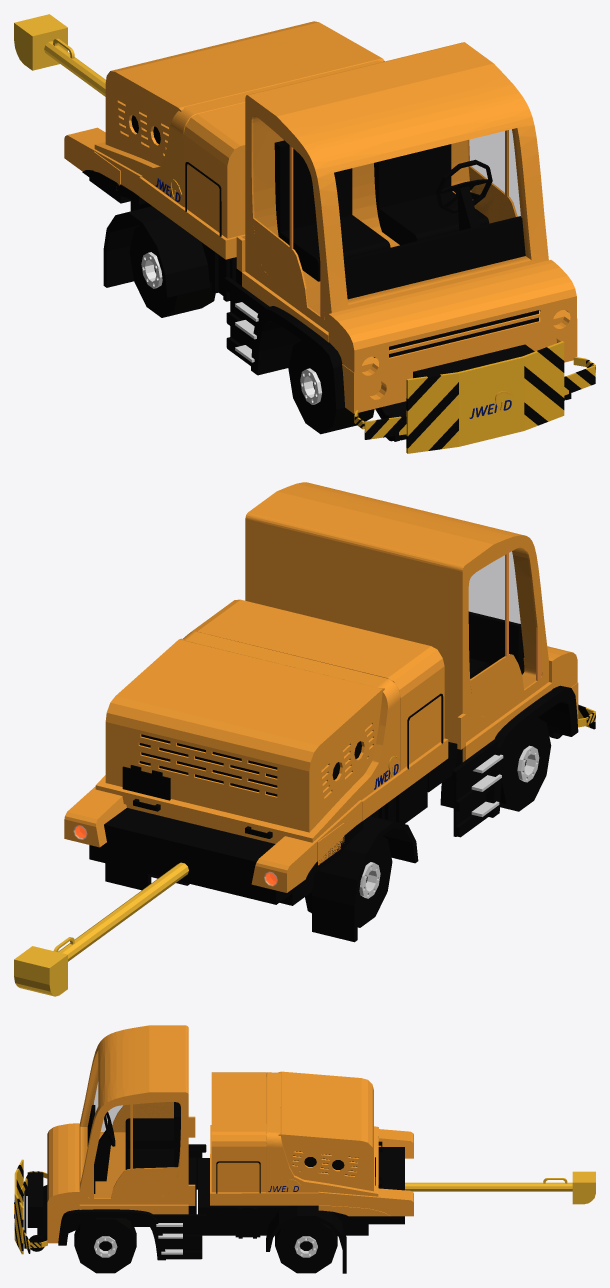
File: 公铁两用车.FBX
3 renders of one model, top to bottom at view 1: azimuth 30°, elevation 25°; view 2: azimuth 150°, elevation 25°; view 3: azimuth 270°, elevation 25°, orthographic. The views are drawn at different scales.
Visible parts, largest first — view 1: 驾驶室, 车身, 驾驶位, 车架, 保险杠, 轮胎1, 拖杆, 车窗, 轮胎3, 轮胎2, 脚踏; view 2: 车身, 驾驶室, 车架, 拖杆, 轮胎1, 驾驶位, 车窗, 车身部件, 车身001, 轮胎2, 轮胎3, 脚踏; view 3: 车身, 驾驶室, 车架, 轮胎1, 驾驶位, 拖杆, 轮胎3, 保险杠, 车窗, 轮胎2, 脚踏.
Part boxes in pixels (left/top/right/bottom): 驾驶室: left=236, top=42, right=577, bottom=413; 车身: left=64, top=21, right=384, bottom=259; 驾驶位: left=274, top=140, right=525, bottom=299; 车架: left=89, top=178, right=595, bottom=450; 保险杠: left=354, top=341, right=595, bottom=453; 轮胎1: left=131, top=228, right=334, bottom=430; 拖杆: left=14, top=14, right=105, bottom=96; 车窗: left=467, top=129, right=520, bottom=220; 轮胎3: left=129, top=226, right=374, bottom=434; 轮胎2: left=141, top=252, right=321, bottom=404; 脚踏: left=235, top=302, right=258, bottom=362; 车身: left=64, top=599, right=448, bottom=892; 驾驶室: left=245, top=482, right=578, bottom=761; 车架: left=89, top=685, right=595, bottom=942; 拖杆: left=14, top=862, right=188, bottom=996; 轮胎1: left=357, top=719, right=549, bottom=924; 驾驶位: left=468, top=611, right=524, bottom=678; 车窗: left=469, top=551, right=520, bottom=623; 车身部件: left=122, top=693, right=443, bottom=838; 车身001: left=139, top=734, right=361, bottom=796; 轮胎2: left=359, top=745, right=539, bottom=898; 轮胎3: left=151, top=718, right=551, bottom=927; 脚踏: left=471, top=754, right=503, bottom=816; 车身: left=210, top=1071, right=413, bottom=1216; 驾驶室: left=47, top=1025, right=195, bottom=1243; 车架: left=14, top=1144, right=404, bottom=1273; 轮胎1: left=76, top=1221, right=335, bottom=1271; 驾驶位: left=87, top=1102, right=180, bottom=1193; 拖杆: left=405, top=1171, right=595, bottom=1204; 轮胎3: left=74, top=1217, right=337, bottom=1273; 保险杠: left=14, top=1159, right=47, bottom=1254; 车窗: left=94, top=1083, right=173, bottom=1132; 轮胎2: left=94, top=1236, right=317, bottom=1257; 脚踏: left=156, top=1223, right=182, bottom=1254.
Size of the model in its own units: 110 by 122 by 353.
